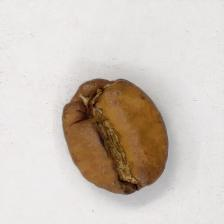NG: (76, 84, 152, 190)
